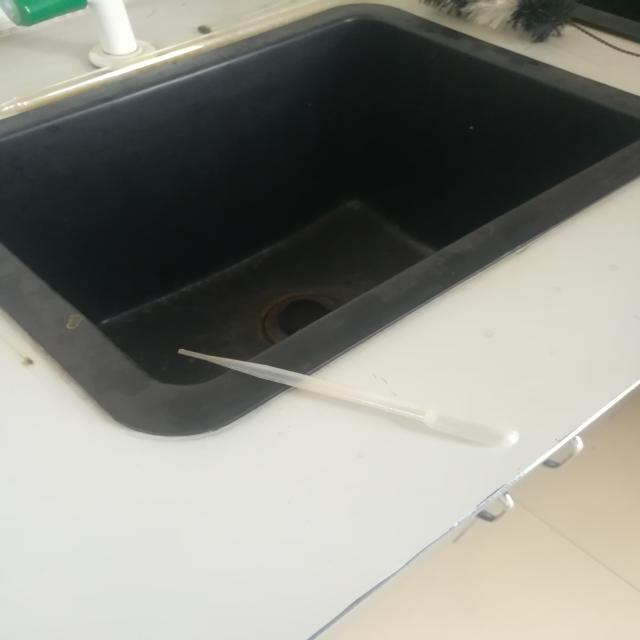Test_Tube: (146, 284, 534, 480)
